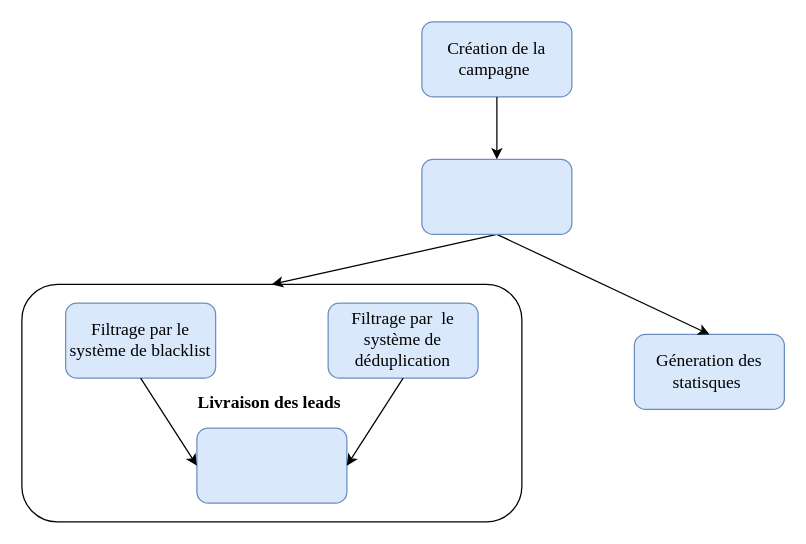
The diagram is 806 pixels wide and 544 high, and some of its shapes have lost their labels. Here are the shapes that lost their labels. From the top down, the centre of each, then its label:
At point (496, 196): "Création de la Survey (page de publicité)".
At point (271, 465): "livraison au client".
